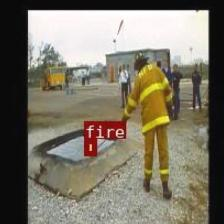fire: (84, 138, 95, 155)
